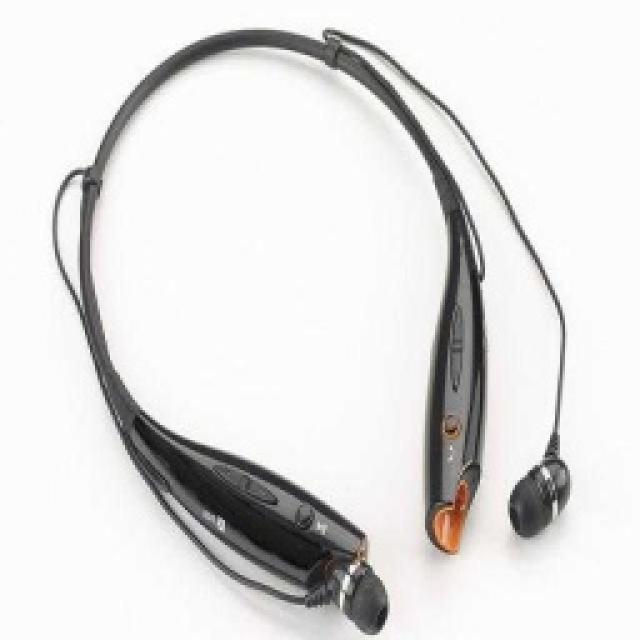headphones: (50, 22, 570, 632)
